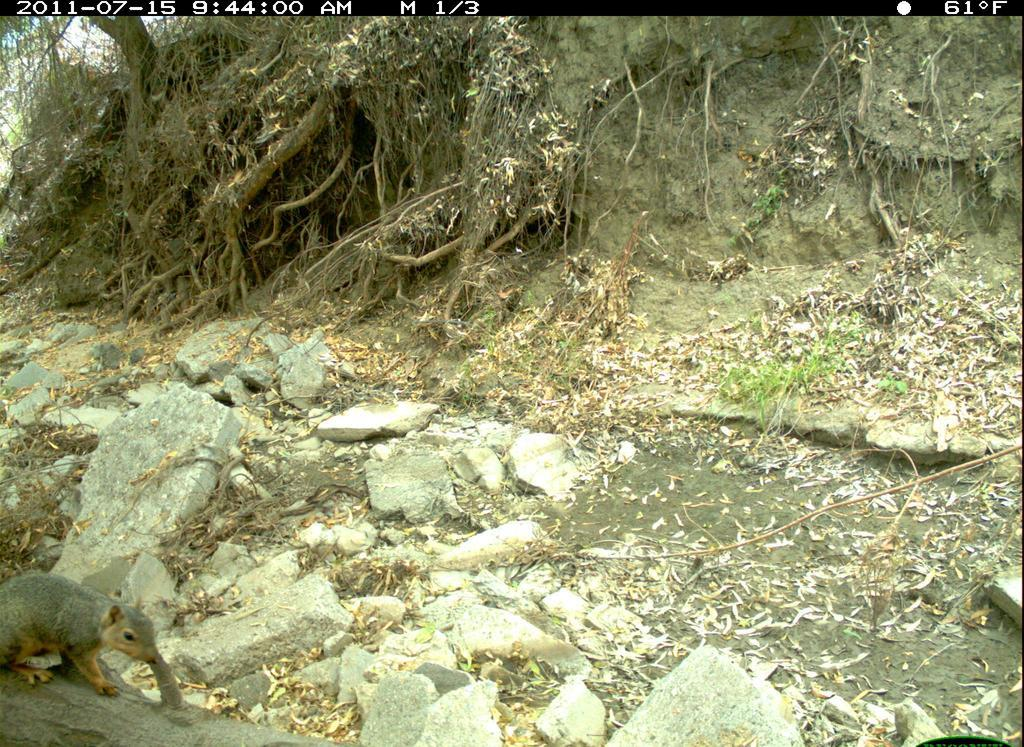squirrel: (6, 569, 176, 698)
